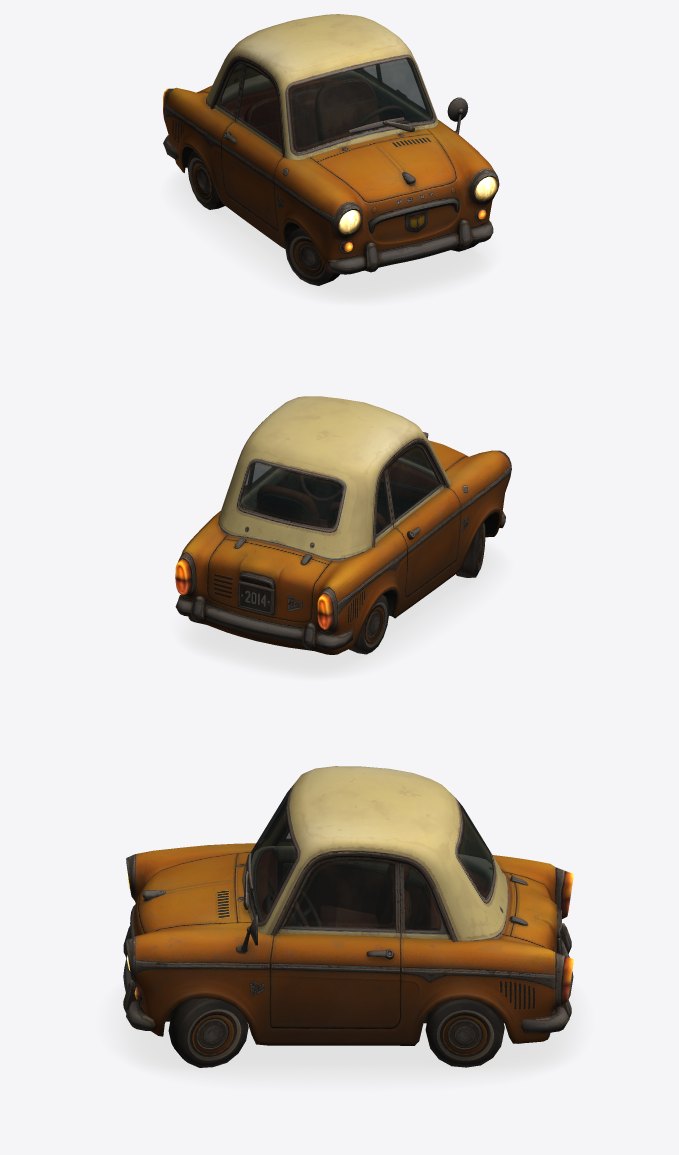
File: model_inspector_demo_press_i.glb
The picture shows the model from 3 angles, top to bottom: view 1: azimuth 30°, elevation 25°; view 2: azimuth 150°, elevation 25°; view 3: azimuth 270°, elevation 25°; orthographic projection. The views are drawn at different scales.
Parts seen in each view (by area): view 1: Object_2, Object_3, Object_5, Object_4; view 2: Object_2, Object_3, Object_5, Object_4; view 3: Object_2, Object_3, Object_5, Object_4.
Part boxes in pixels (<box>): Object_2: <box>163,14,499,285</box>; Object_3: <box>164,168,497,304</box>; Object_5: <box>220,58,433,152</box>; Object_4: <box>222,70,430,151</box>; Object_2: <box>175,396,511,654</box>; Object_3: <box>175,540,509,679</box>; Object_5: <box>240,446,440,534</box>; Object_4: <box>241,458,438,533</box>; Object_2: <box>123,766,573,1067</box>; Object_3: <box>103,984,587,1088</box>; Object_5: <box>251,788,493,930</box>; Object_4: <box>251,846,492,930</box>.
Size of the model in its own units: 2.89 by 1.34 by 3.43.
Materials: 4 (4 with a texture image).
